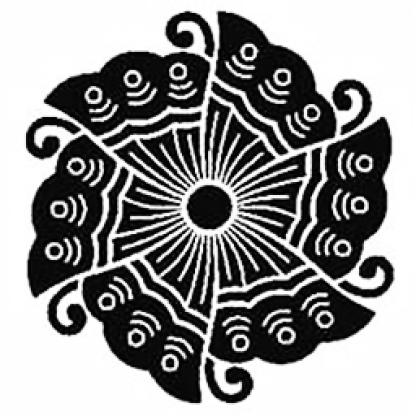kamon: (26, 12, 396, 404)
